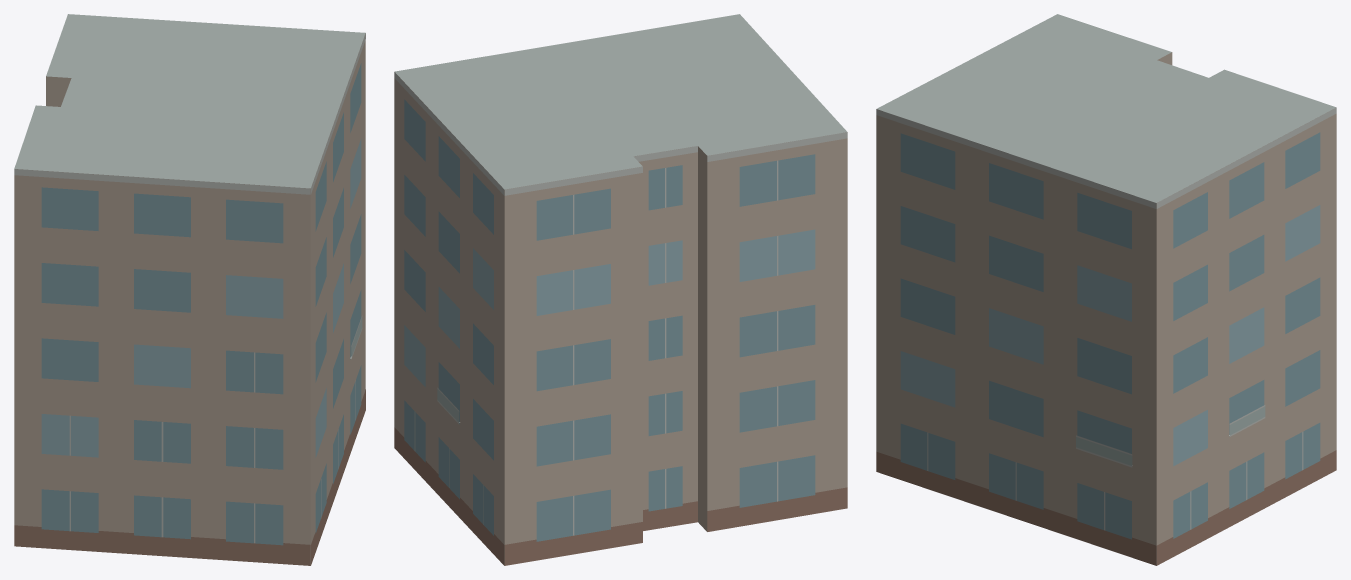
The model's file is survey-upis-32871214.glb.
3 renders of one model, left to right at view 1: azimuth 30°, elevation 25°; view 2: azimuth 150°, elevation 25°; view 3: azimuth 270°, elevation 25°, orthographic. The views are drawn at different scales.
Parts seen in each view (by area): view 1: survey-upis-32871214.tmp; view 2: survey-upis-32871214.tmp; view 3: survey-upis-32871214.tmp.
Boxes of the visible parts, box(x1,y1,x2,y2) form: survey-upis-32871214.tmp: box(14, 14, 365, 565); survey-upis-32871214.tmp: box(394, 14, 847, 565); survey-upis-32871214.tmp: box(876, 14, 1336, 565).
Bounding box in the file's own units: 16.27 × 14.55 × 16.74.
